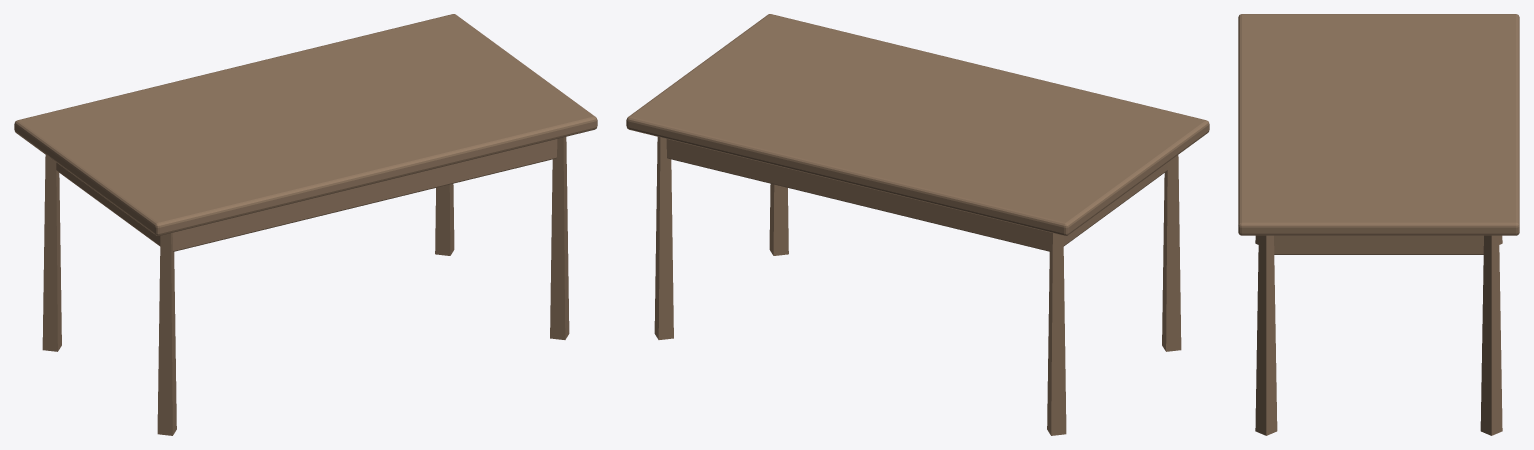
Rendered from table.glb.
3 views of the same model, side by side, from view 1: azimuth 30°, elevation 25°; view 2: azimuth 150°, elevation 25°; view 3: azimuth 270°, elevation 25° (orthographic). The views are drawn at different scales.
Parts seen in each view (by area): view 1: top, apron, leg.001, leg.003, leg, leg.002; view 2: top, apron, leg, leg.002, leg.001, leg.003; view 3: top, apron, leg.002, leg.003.
Boxes of the visible parts, <box> form: top: <box>14,14,597,235</box>; apron: <box>56,139,557,251</box>; leg.001: <box>157,233,176,435</box>; leg.003: <box>550,137,569,339</box>; leg: <box>42,155,61,351</box>; leg.002: <box>435,184,454,255</box>; top: <box>626,14,1209,235</box>; apron: <box>666,139,1167,251</box>; leg: <box>1047,233,1066,435</box>; leg.002: <box>654,137,673,339</box>; leg.001: <box>1162,155,1181,351</box>; leg.003: <box>769,184,788,255</box>; top: <box>1238,14,1519,235</box>; apron: <box>1274,235,1483,254</box>; leg.002: <box>1480,235,1502,435</box>; leg.003: <box>1255,235,1277,435</box>.
Bounding box in the file's own units: 1.6 × 0.7725 × 0.9.
